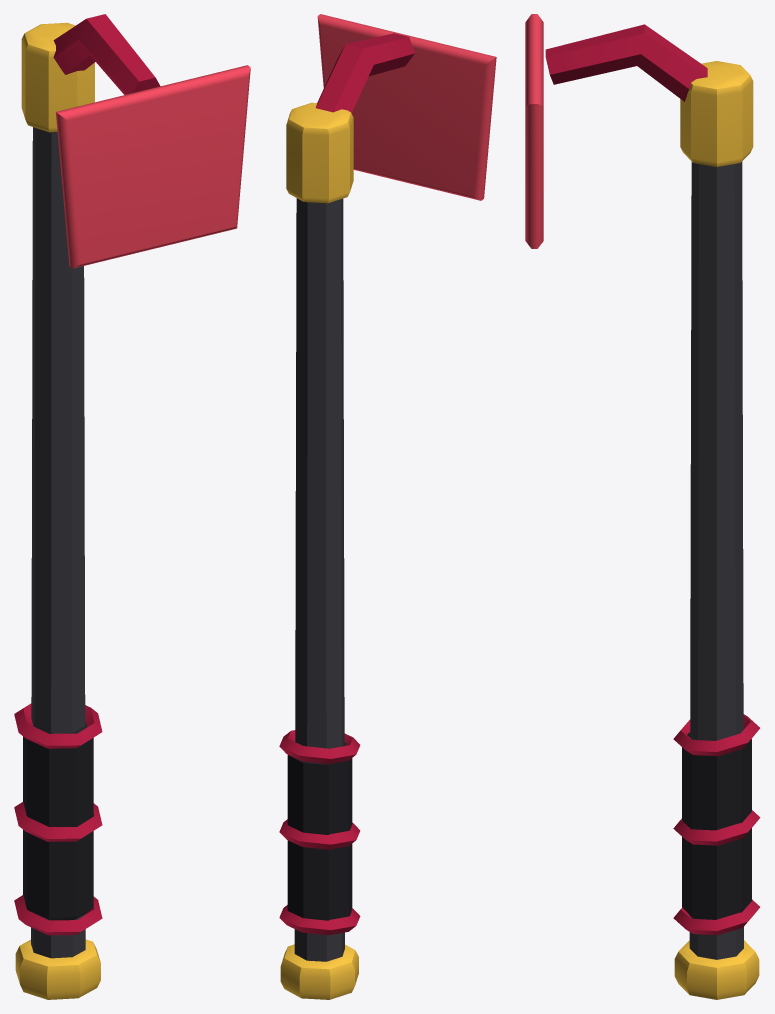
The model's file is RubyHoe.fbx.
3 renders of one model, left to right at view 1: azimuth 30°, elevation 25°; view 2: azimuth 150°, elevation 25°; view 3: azimuth 270°, elevation 25°, orthographic. The views are drawn at different scales.
Parts seen in each view (by area): view 1: RubyHoe; view 2: RubyHoe; view 3: RubyHoe.
Part boxes in pixels (x1,y1,x2,y2): RubyHoe: (14, 14, 250, 999); RubyHoe: (279, 14, 496, 999); RubyHoe: (525, 14, 760, 999).
Size of the model in its own units: 0.7 by 3.48 by 0.7736.
1 material, 1 textured.
